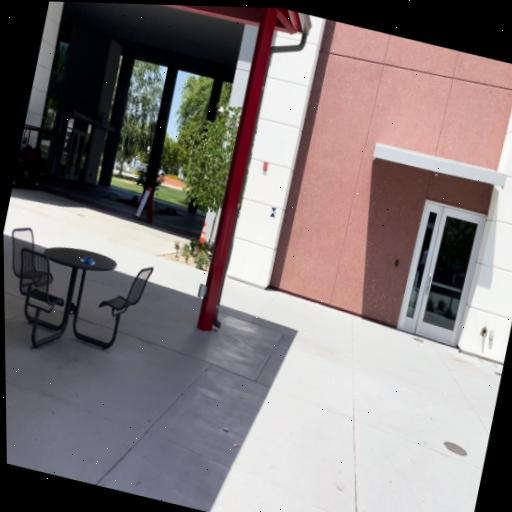target9: (268, 206, 277, 218)
